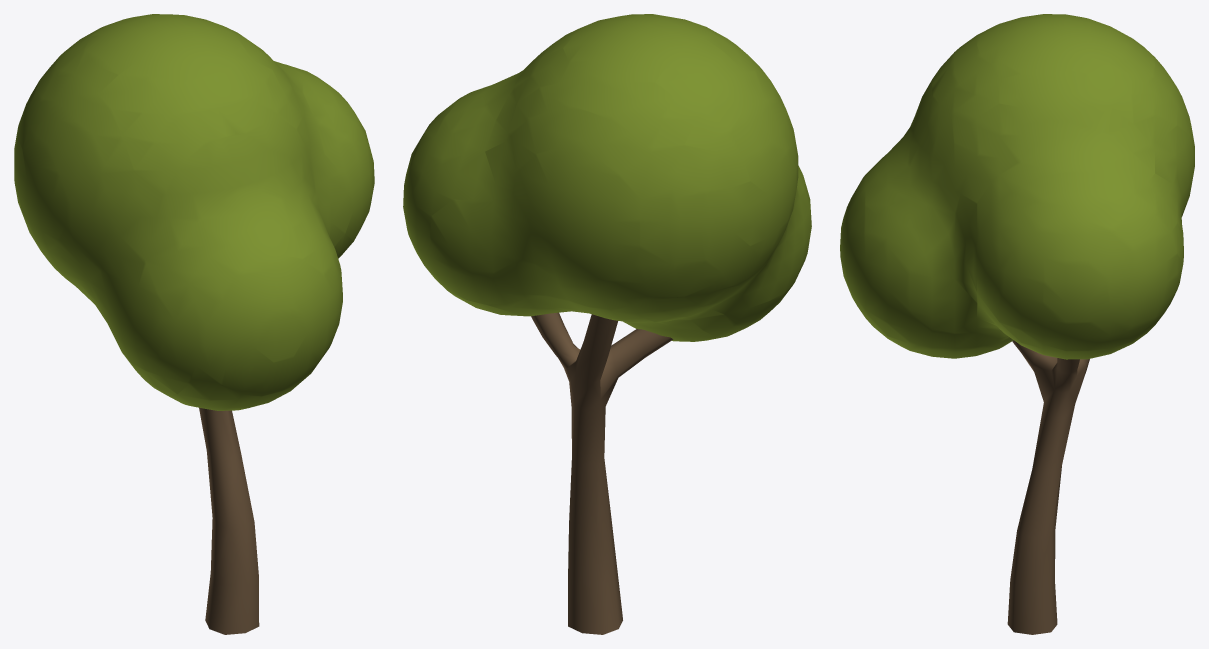
File: Tree_1.glb
The picture shows the model from 3 angles, left to right: view 1: azimuth 30°, elevation 25°; view 2: azimuth 150°, elevation 25°; view 3: azimuth 270°, elevation 25°; orthographic projection. The views are drawn at different scales.
Visible parts, largest first — view 1: Tree_1; view 2: Tree_1; view 3: Tree_1.
Boxes of the visible parts, left/top/right/bottom form: Tree_1: left=14, top=14, right=374, bottom=634; Tree_1: left=403, top=14, right=811, bottom=634; Tree_1: left=840, top=14, right=1194, bottom=634.
Bounding box in the file's own units: 3.44 × 5.86 × 3.31.
